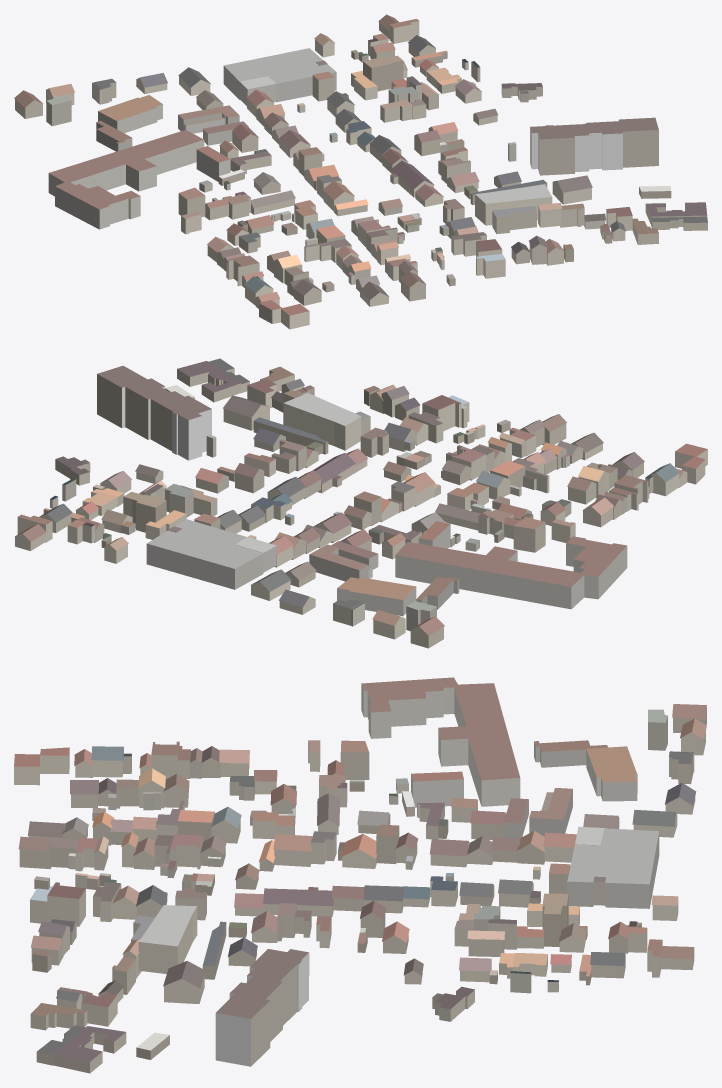
3 views of the same model, one above another, from view 1: azimuth 30°, elevation 25°; view 2: azimuth 150°, elevation 25°; view 3: azimuth 270°, elevation 25° (orthographic). The views are drawn at different scales.
Visible parts, largest first — view 1: tuile; view 2: tuile; view 3: tuile.
Boxes of the visible parts, x1,y1,x2,y2 form: tuile: (14,14,707,329); tuile: (15,358,707,648); tuile: (14,677,706,1073).
Bounding box in the file's own units: 300 × 32.99 × 261.
